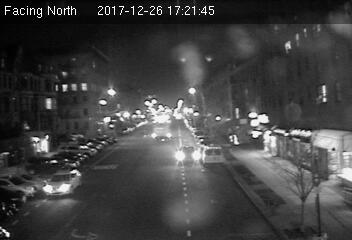car: (43, 167, 81, 196), (175, 144, 201, 165)
truck: (202, 144, 224, 166)
